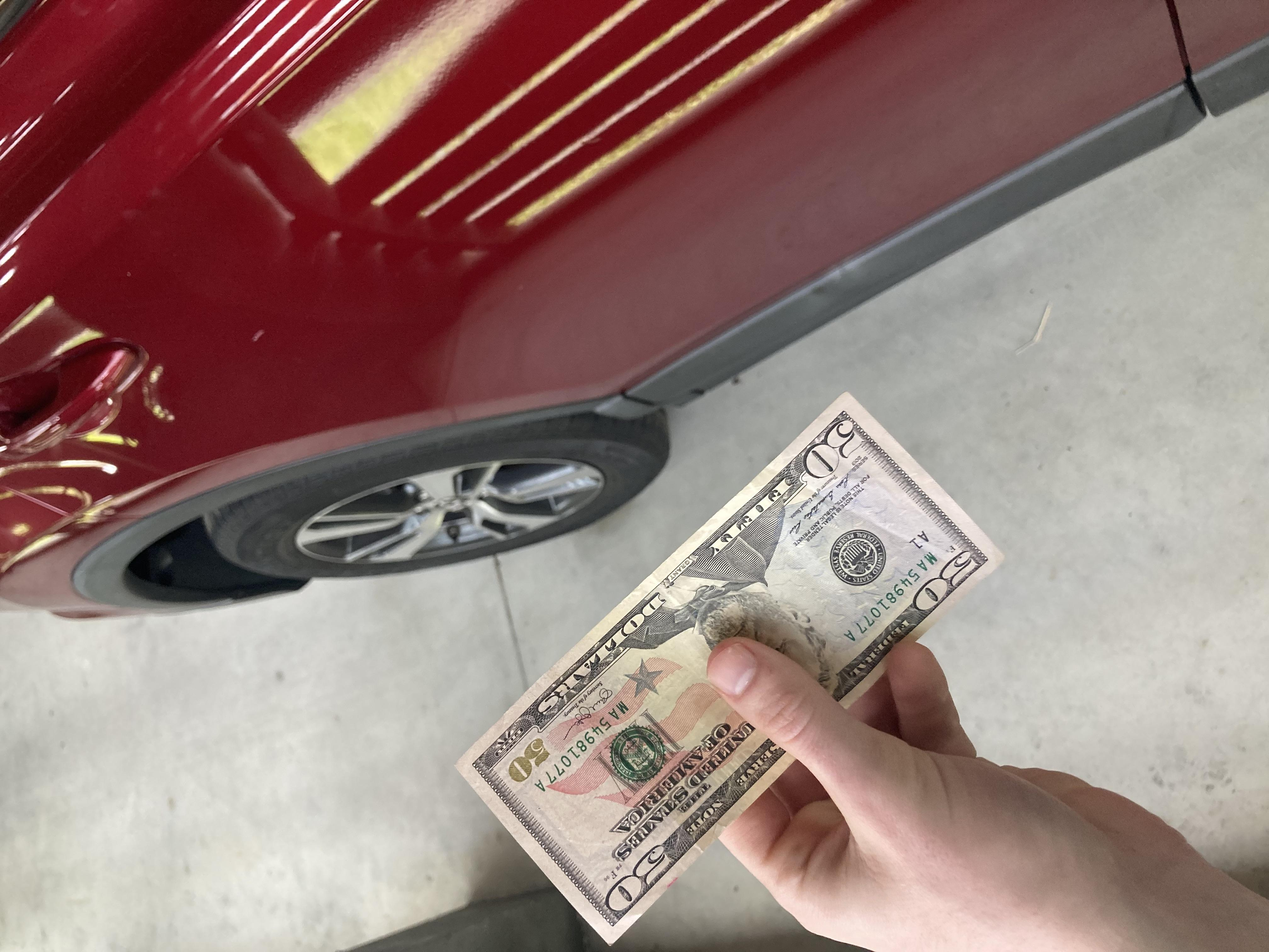fifty-front: (7, 339, 750, 754)
